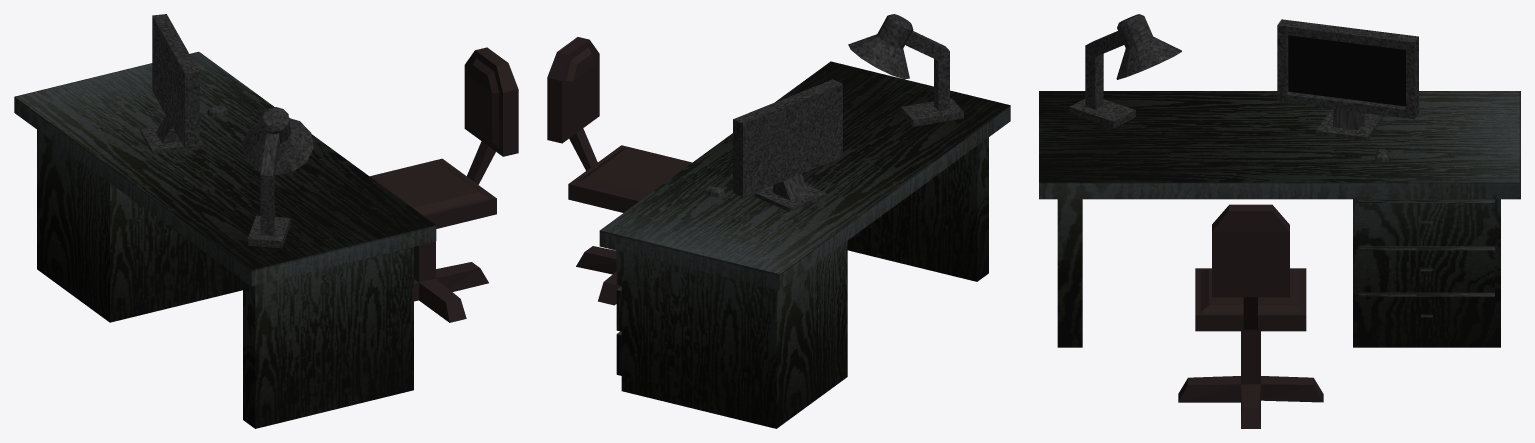
The model's file is Mebel.fbx.
3 views of the same model, side by side, from view 1: azimuth 30°, elevation 25°; view 2: azimuth 150°, elevation 25°; view 3: azimuth 270°, elevation 25° (orthographic). The views are drawn at different scales.
Visible parts, largest first — view 1: Table, Cheair, PK, Lamp; view 2: Table, Cheair, PK, Lamp; view 3: Table, Cheair, PK, Lamp.
Part boxes in pixels (x1,y1,x2,y2): Table: [14, 51, 436, 428]; Cheair: [370, 47, 518, 322]; PK: [140, 14, 228, 153]; Lamp: [242, 107, 313, 247]; Table: [599, 61, 1010, 428]; Cheair: [547, 37, 692, 305]; PK: [705, 79, 842, 211]; Lamp: [848, 14, 963, 126]; Table: [1039, 91, 1520, 347]; Cheair: [1178, 204, 1323, 428]; PK: [1277, 19, 1418, 162]; Lamp: [1069, 14, 1181, 128].
Bounding box in the file's own units: 232 × 175 × 271.
